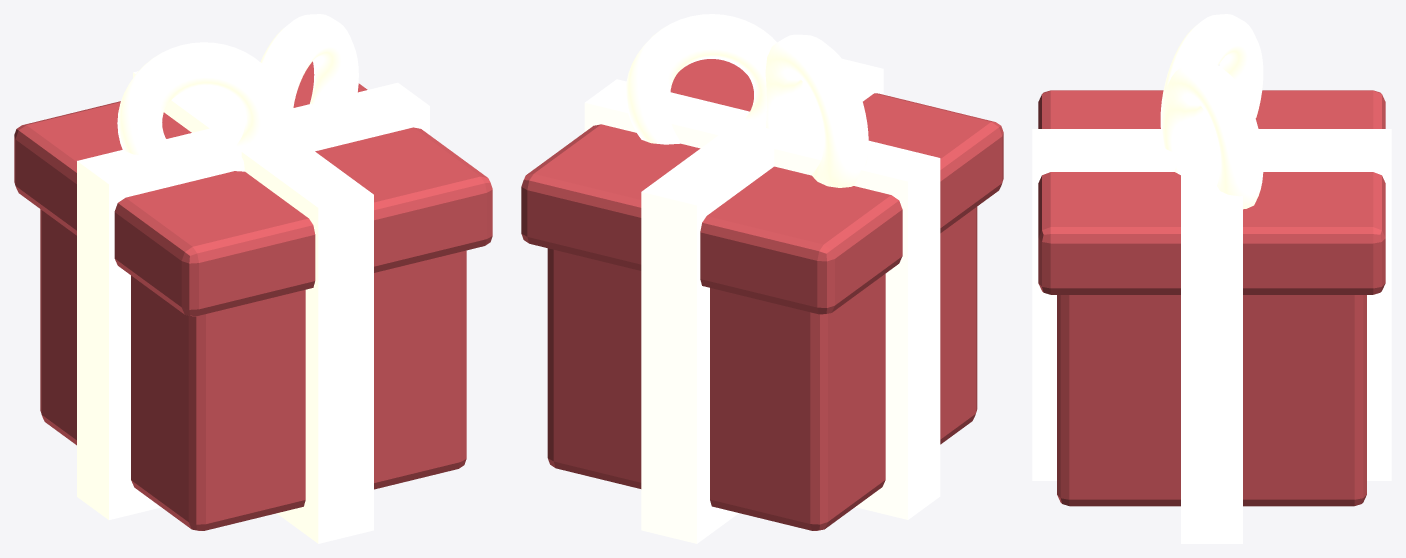
Rendered from gift_red.glb.
3 views of the same model, side by side, from view 1: azimuth 30°, elevation 25°; view 2: azimuth 150°, elevation 25°; view 3: azimuth 270°, elevation 25° (orthographic). The views are drawn at different scales.
Parts seen in each view (by area): view 1: gift_red_mesh; view 2: gift_red_mesh; view 3: gift_red_mesh.
Part boxes in pixels (x1,y1,x2,y2): gift_red_mesh: [14, 14, 492, 543]; gift_red_mesh: [521, 14, 1003, 543]; gift_red_mesh: [1032, 14, 1391, 543].
Bounding box in the file's own units: 0.58 × 0.755 × 0.58.
